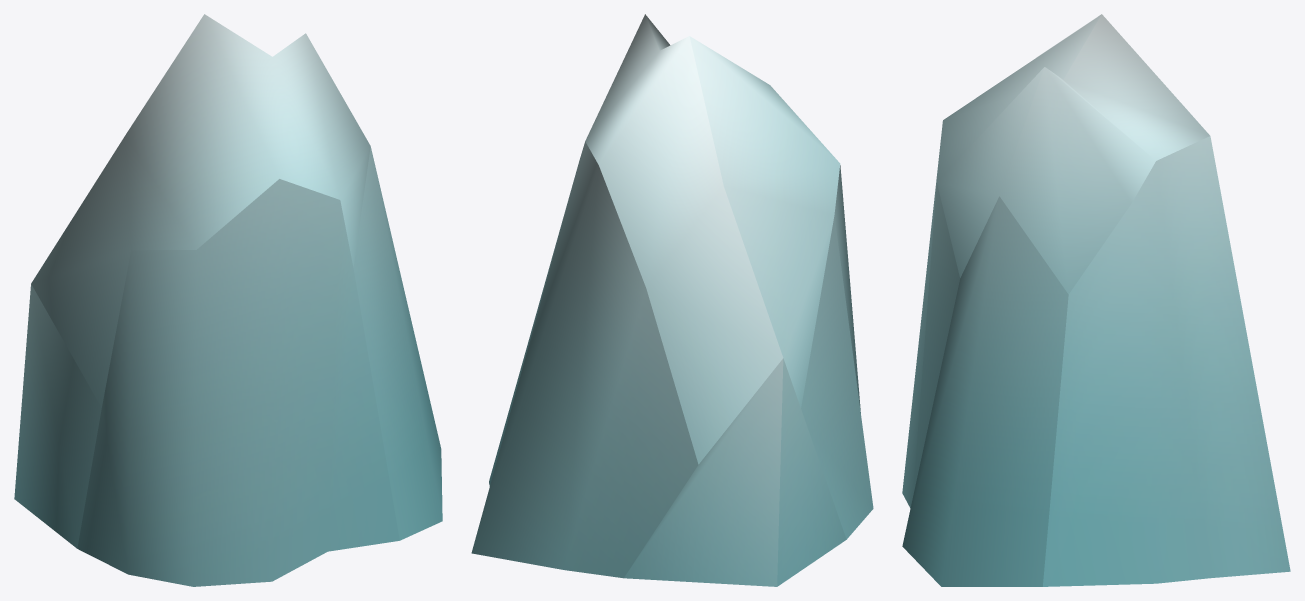
The model's file is Ice_V6_paint.fbx.
3 renders of one model, left to right at view 1: azimuth 30°, elevation 25°; view 2: azimuth 150°, elevation 25°; view 3: azimuth 270°, elevation 25°, orthographic. The views are drawn at different scales.
Parts seen in each view (by area): view 1: V6; view 2: V6; view 3: V6.
Boxes of the visible parts, x1=… form: V6: x1=14, y1=14, x2=442, y2=586; V6: x1=471, y1=14, x2=873, y2=586; V6: x1=902, y1=14, x2=1290, y2=586.
Bounding box in the file's own units: 1.14 × 1.52 × 1.08.
